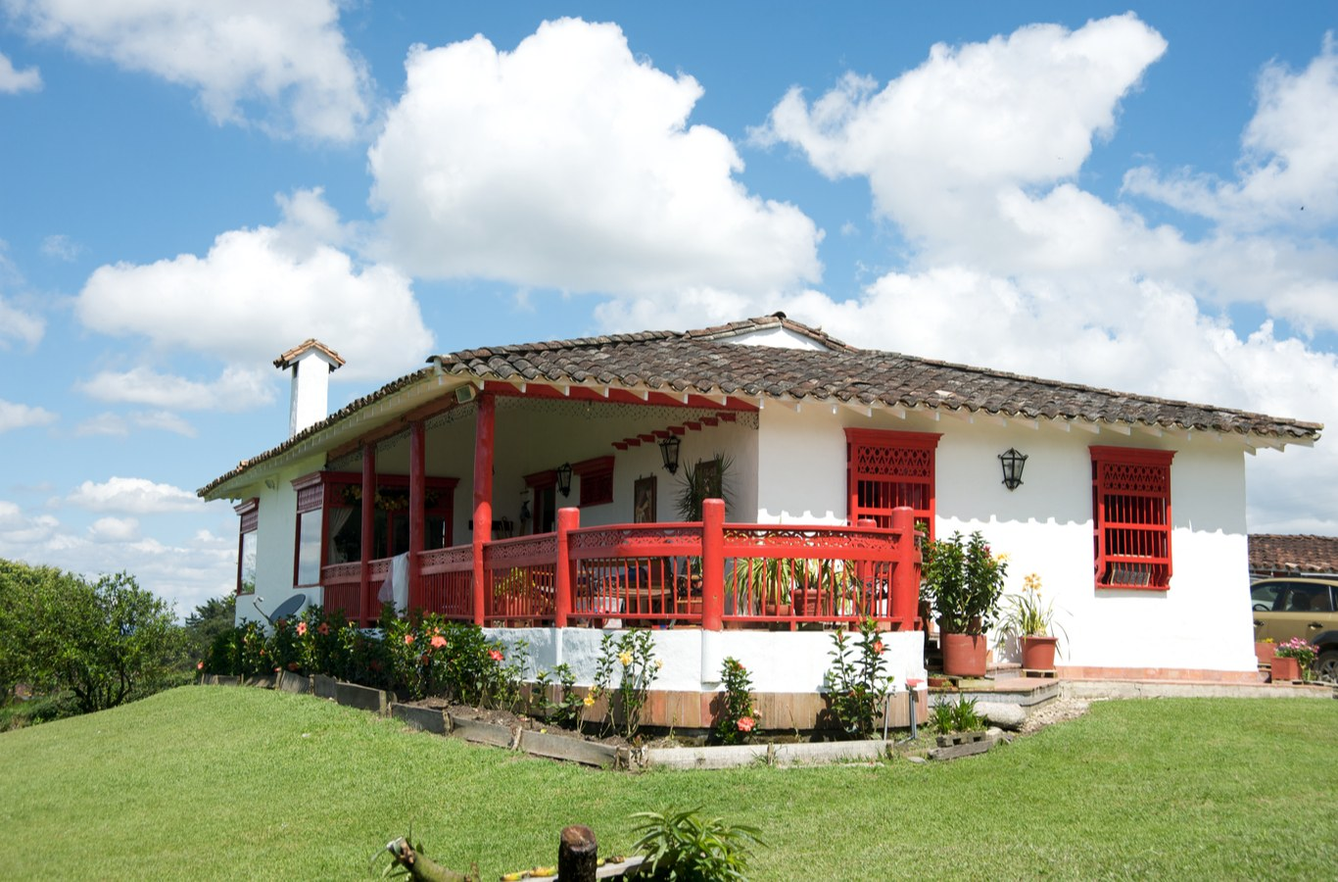House: (217, 285, 1281, 743)
